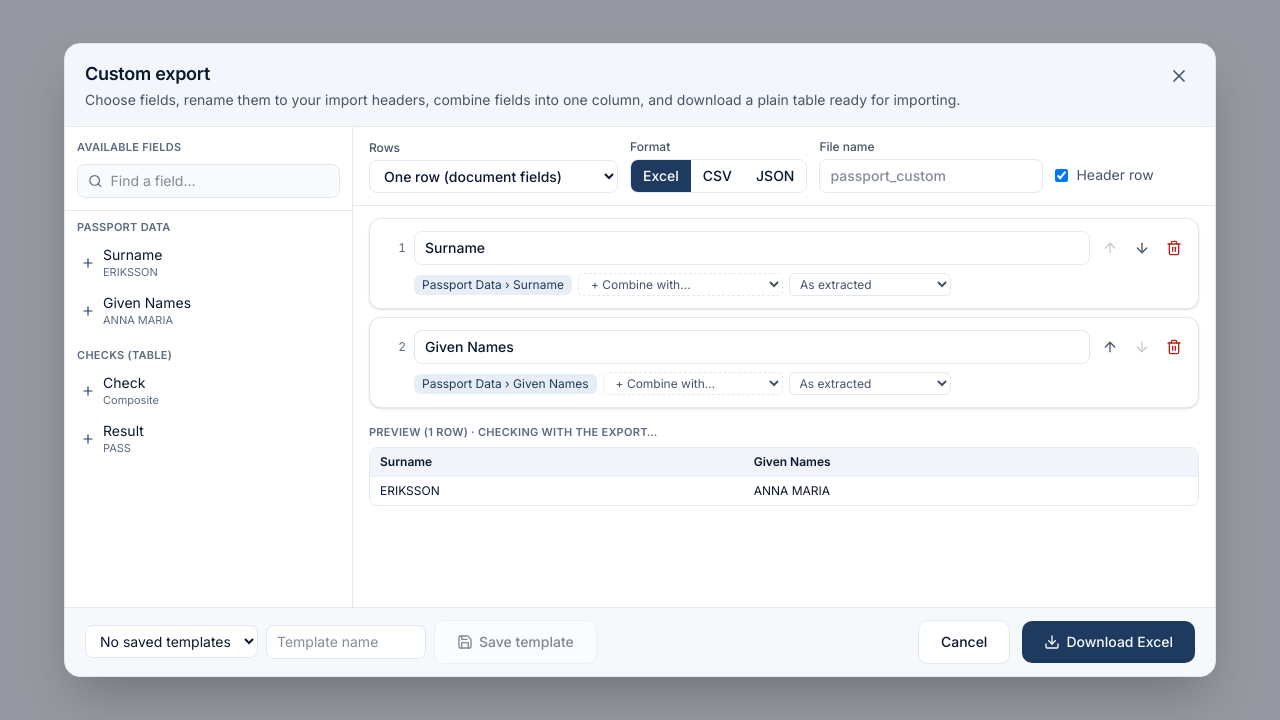
Test: CustomExportDialog › switches to one row per table record and saves the mapping as a reusable template
The image size is (1280, 720).
Select "One row per Checks record (2)" in the dropdown labelled "Rows". click: (494, 177)
box: [369,160,618,193]
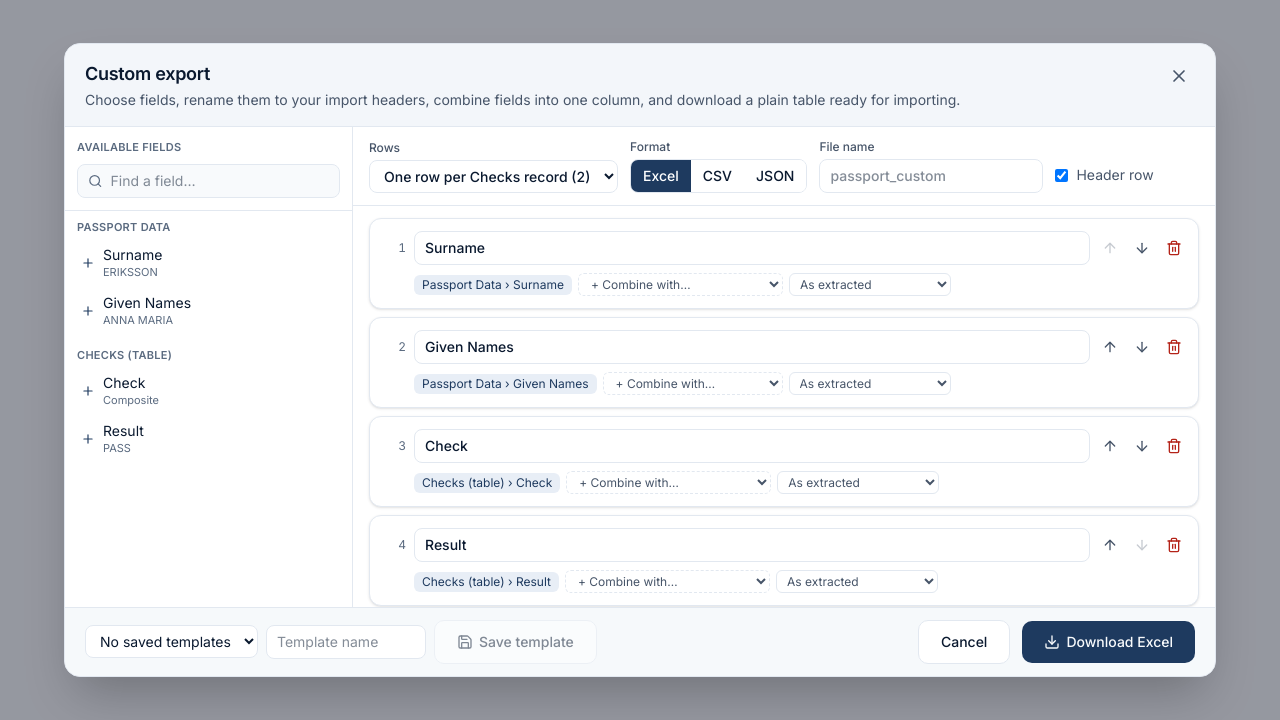
Result: the number of list items with test id "custom-export-column" is 4 at [369,218,1199,309]; [369,317,1199,408]; [369,416,1199,507]; [369,515,1199,606]
Type "ERP import" into the field labelled "Template name". click: (346, 642)
box: [266,625,426,659]
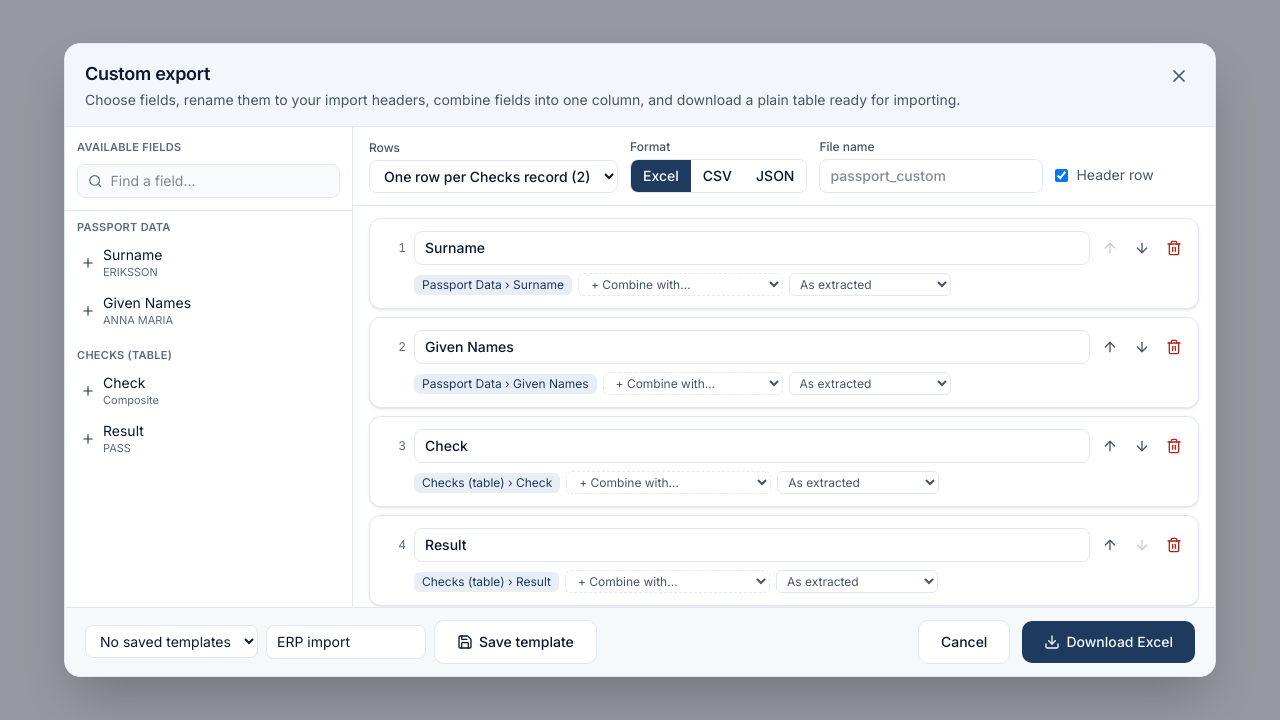
Click the button "Save template". click: (515, 642)
box: [434,620,597,664]
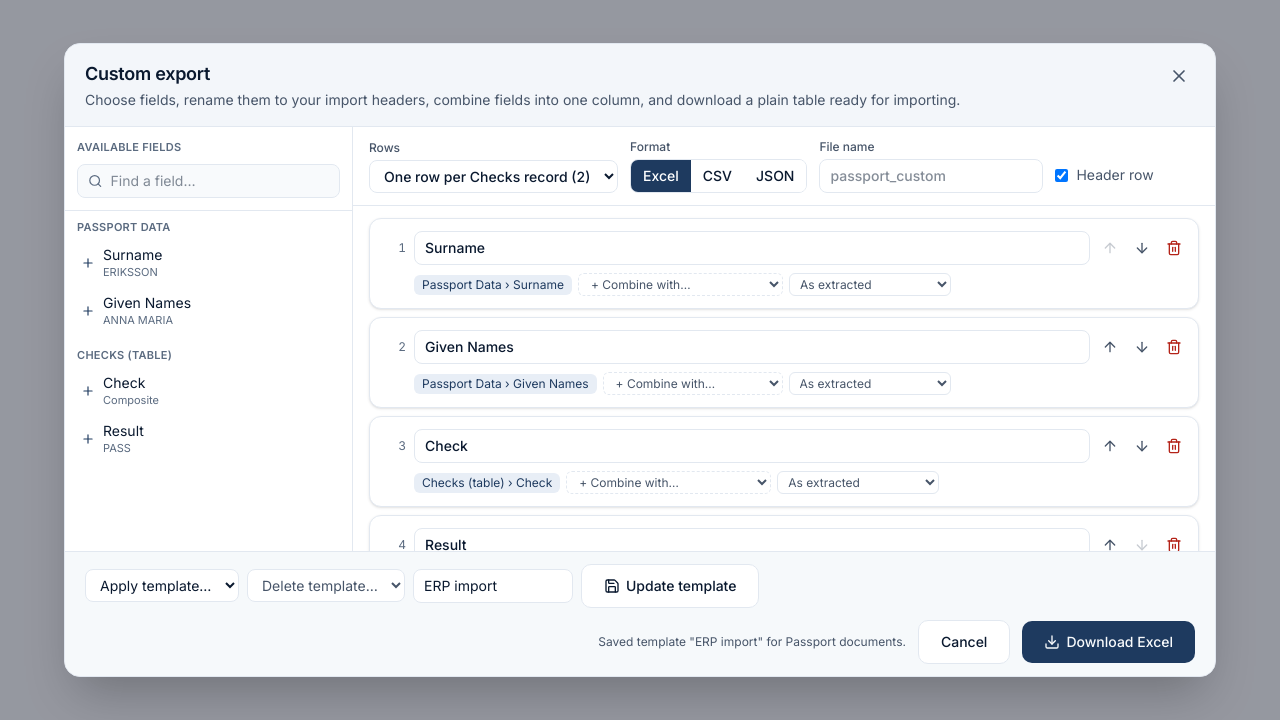
Click the button named "Remove Surname". click: (1174, 248)
box: [1162,236,1186,260]
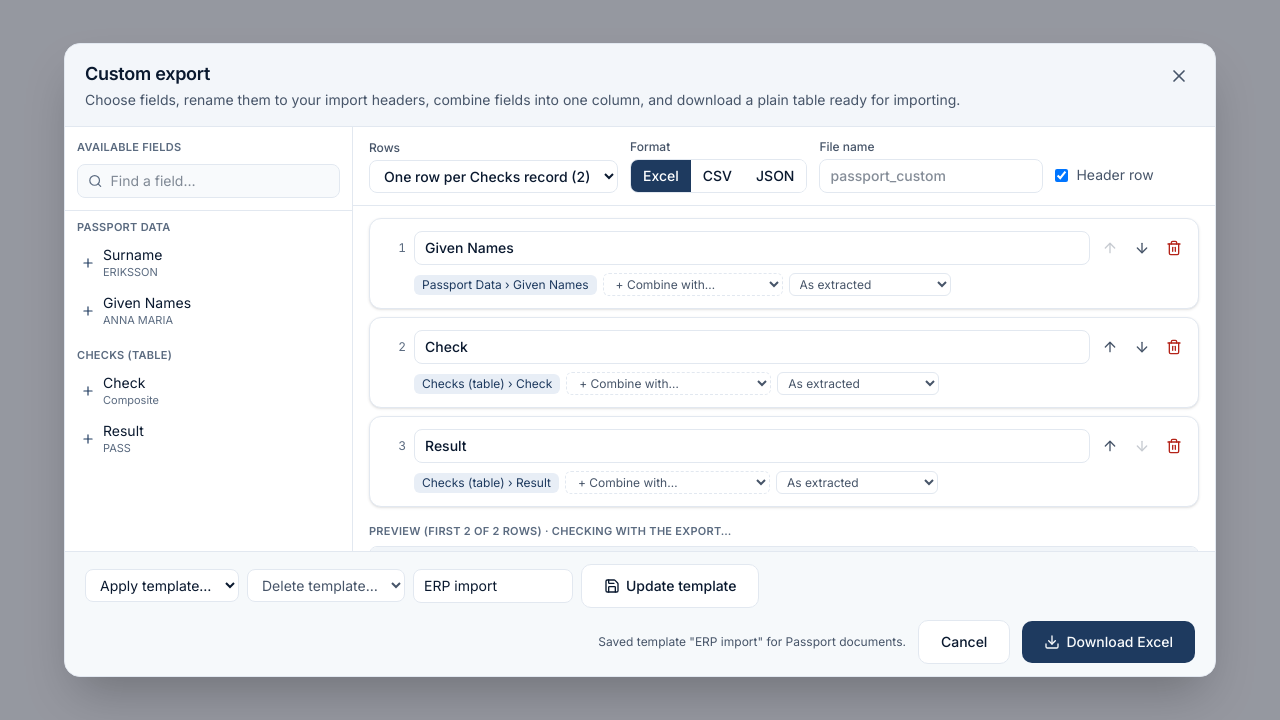
Select "ERP import · v1" in the dropdown named "Apply a saved template". click: (162, 586)
box: [85,569,239,602]
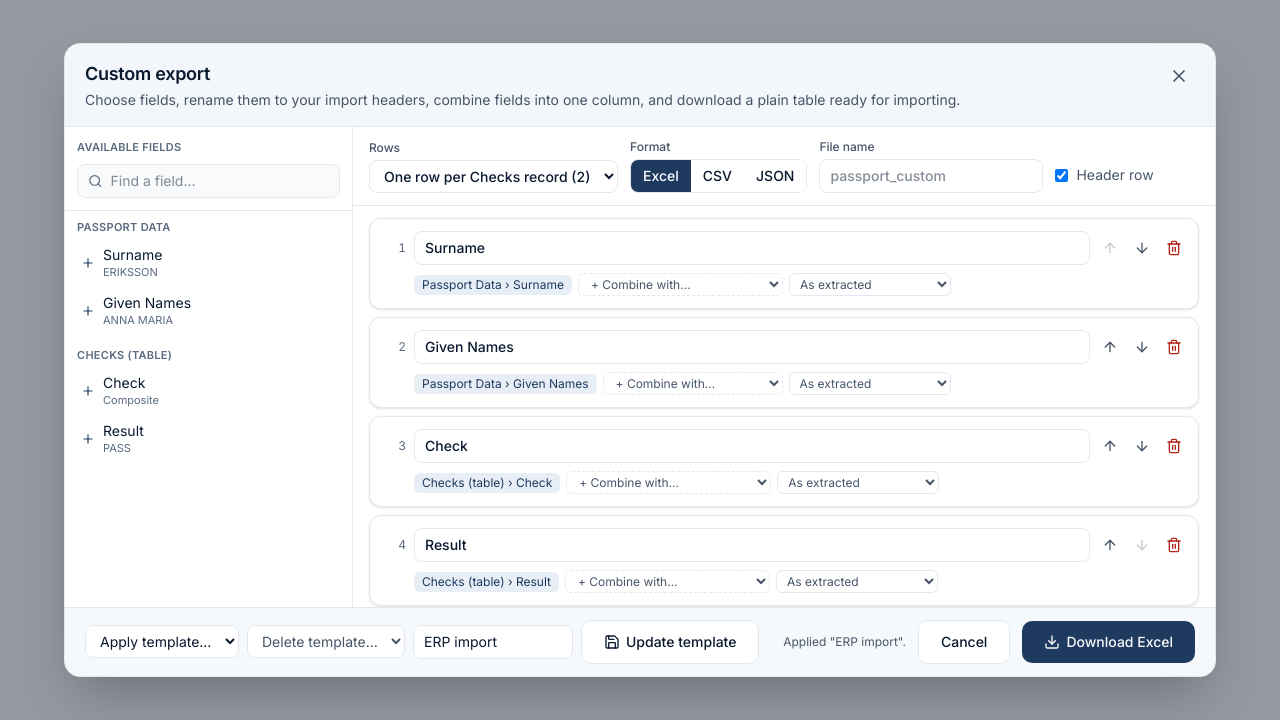
Result: the number of list items with test id "custom-export-column" is 4 at [369,218,1199,309]; [369,317,1199,408]; [369,416,1199,507]; [369,515,1199,606]
Result: the message shows "Applied \"ERP import\"" at [783,634,906,649]
